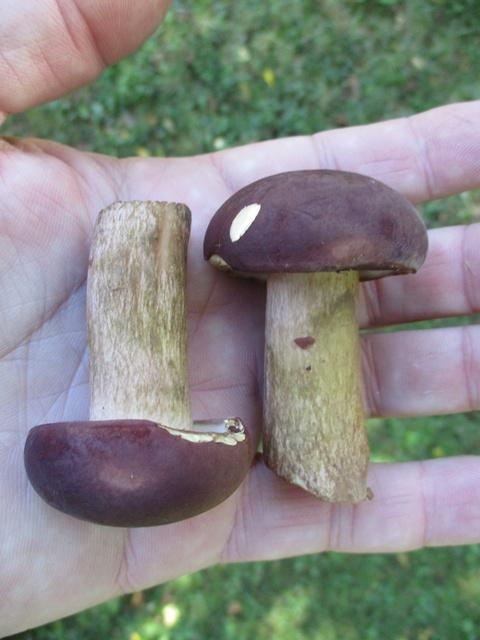poisonous_mushroom: (23, 181, 247, 557), (202, 166, 429, 504)
